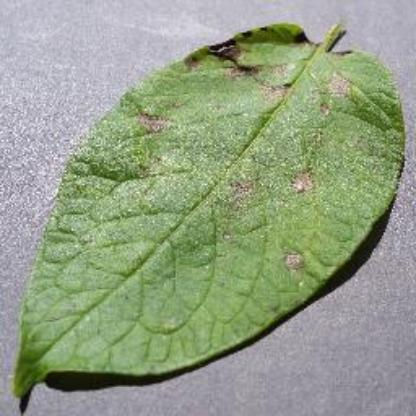Early-Blight: (15, 17, 403, 401)
